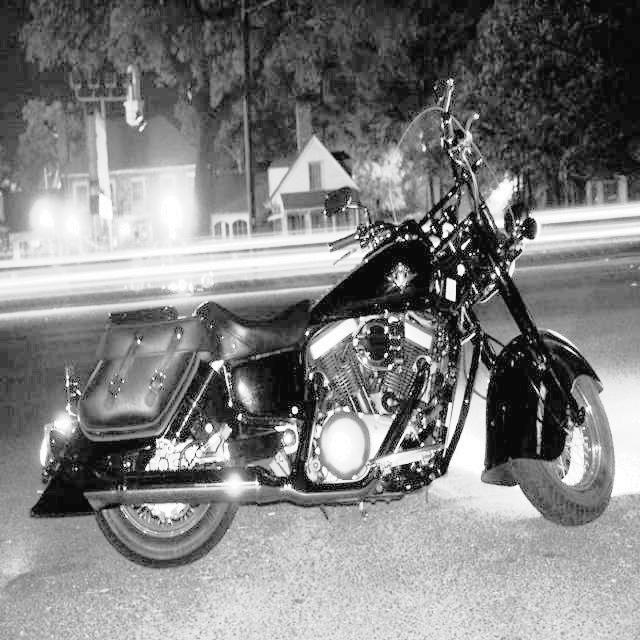Motorcycle: (30, 68, 631, 554)
